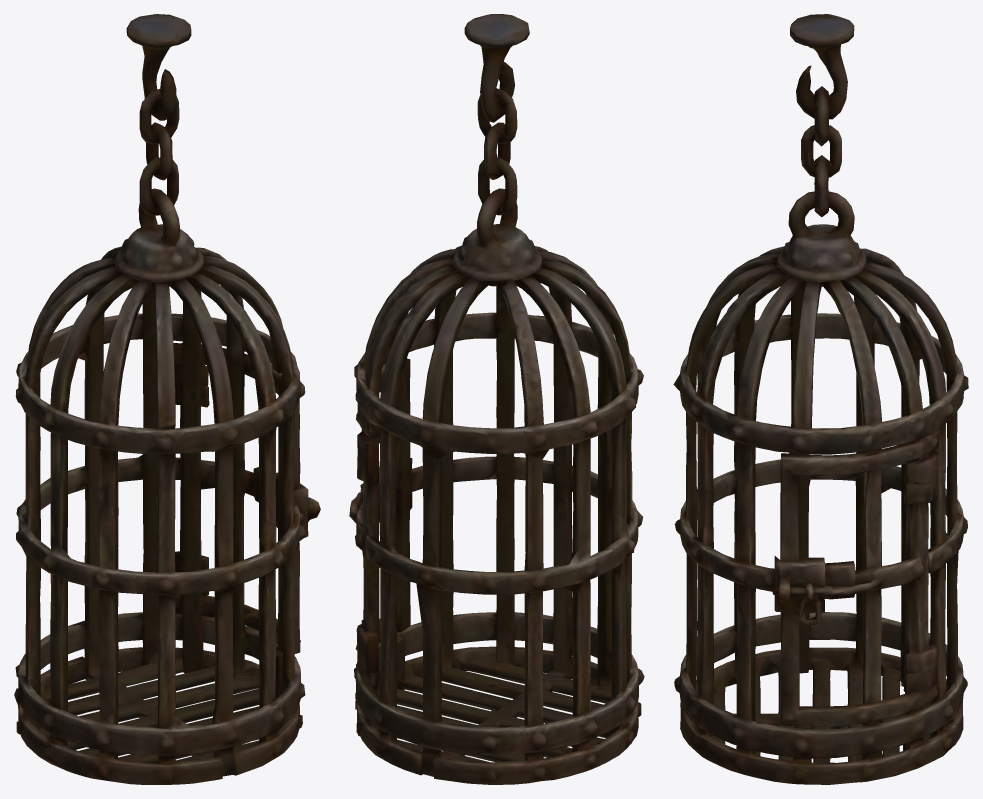
Rendered from hanging-iron-cage.glb.
3 renders of one model, left to right at view 1: azimuth 30°, elevation 25°; view 2: azimuth 150°, elevation 25°; view 3: azimuth 270°, elevation 25°, orthographic.
Parts seen in each view (by area): view 1: tripo_node_0f34e0b5-5540-4fe3-901e-6b142d53b4e7; view 2: tripo_node_0f34e0b5-5540-4fe3-901e-6b142d53b4e7; view 3: tripo_node_0f34e0b5-5540-4fe3-901e-6b142d53b4e7.
Part boxes in pixels (box(x1,y1,x2,y2)): tripo_node_0f34e0b5-5540-4fe3-901e-6b142d53b4e7: box(14, 14, 320, 784); tripo_node_0f34e0b5-5540-4fe3-901e-6b142d53b4e7: box(349, 14, 644, 784); tripo_node_0f34e0b5-5540-4fe3-901e-6b142d53b4e7: box(673, 14, 968, 784).
Bounding box in the file's own units: 0.4018 × 1 × 0.3822.
Materials: 1 (1 with a texture image).
